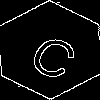C: (25, 25, 87, 83)
